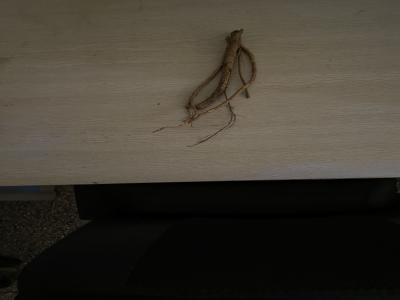Root: (153, 29, 257, 133)
